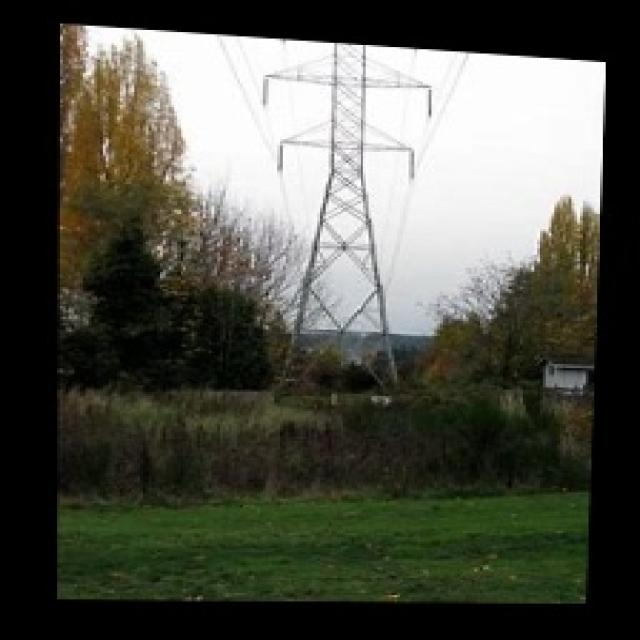utility poles: (211, 278, 325, 408), (360, 319, 500, 410)
